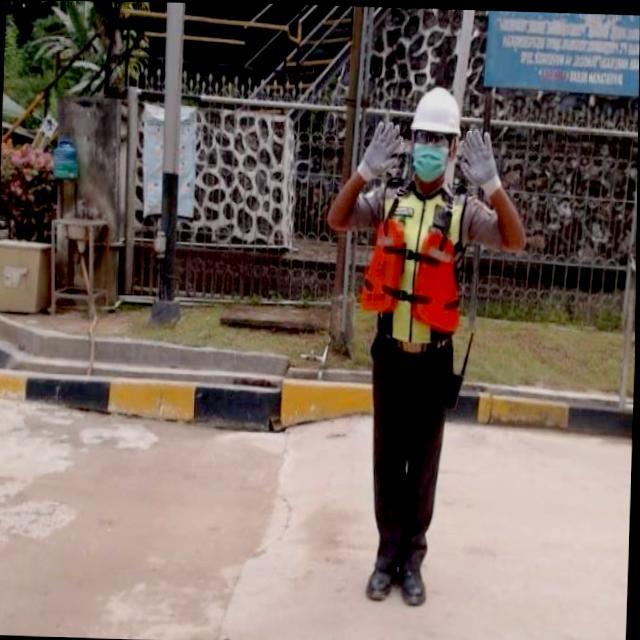goggles_on: (408, 124, 462, 150)
